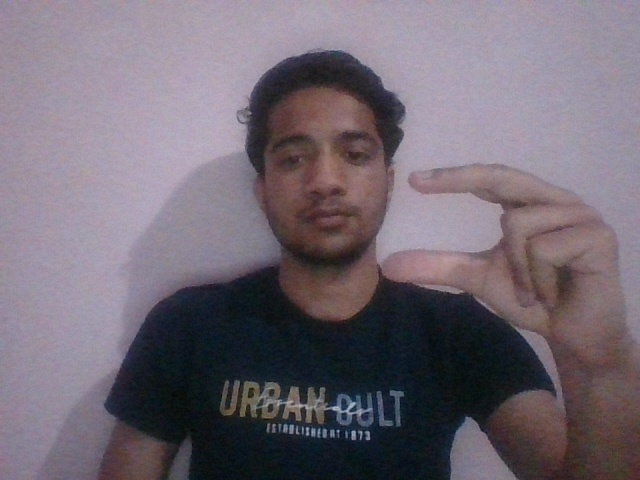no: (381, 159, 634, 344)
